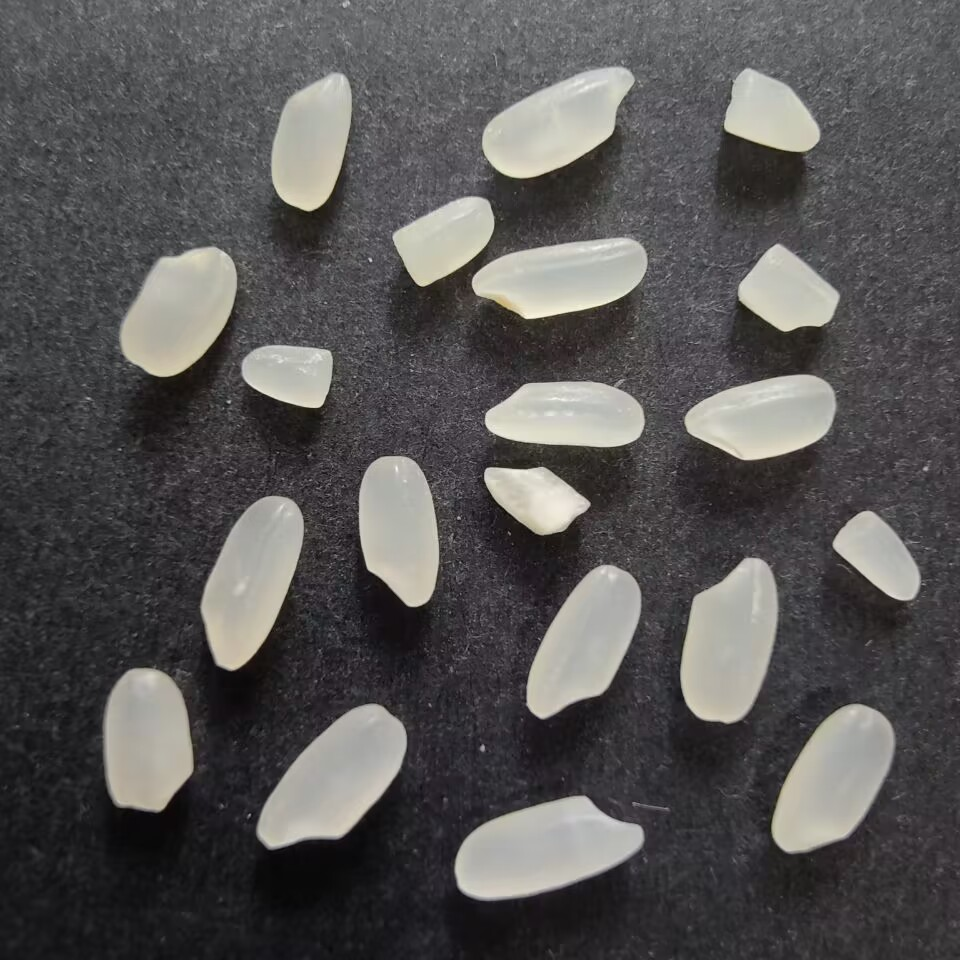broken: (728, 242, 843, 336), (385, 195, 496, 289), (828, 505, 924, 607), (716, 63, 823, 154), (479, 462, 592, 542), (234, 342, 336, 412)
rice: (251, 701, 409, 853), (451, 794, 650, 902), (195, 492, 307, 673), (767, 703, 897, 857), (521, 562, 645, 719), (478, 62, 634, 180), (677, 554, 781, 728), (114, 244, 239, 379), (467, 232, 647, 324), (95, 666, 198, 817), (680, 373, 838, 463), (353, 454, 440, 610), (480, 377, 650, 450), (266, 72, 353, 214)
